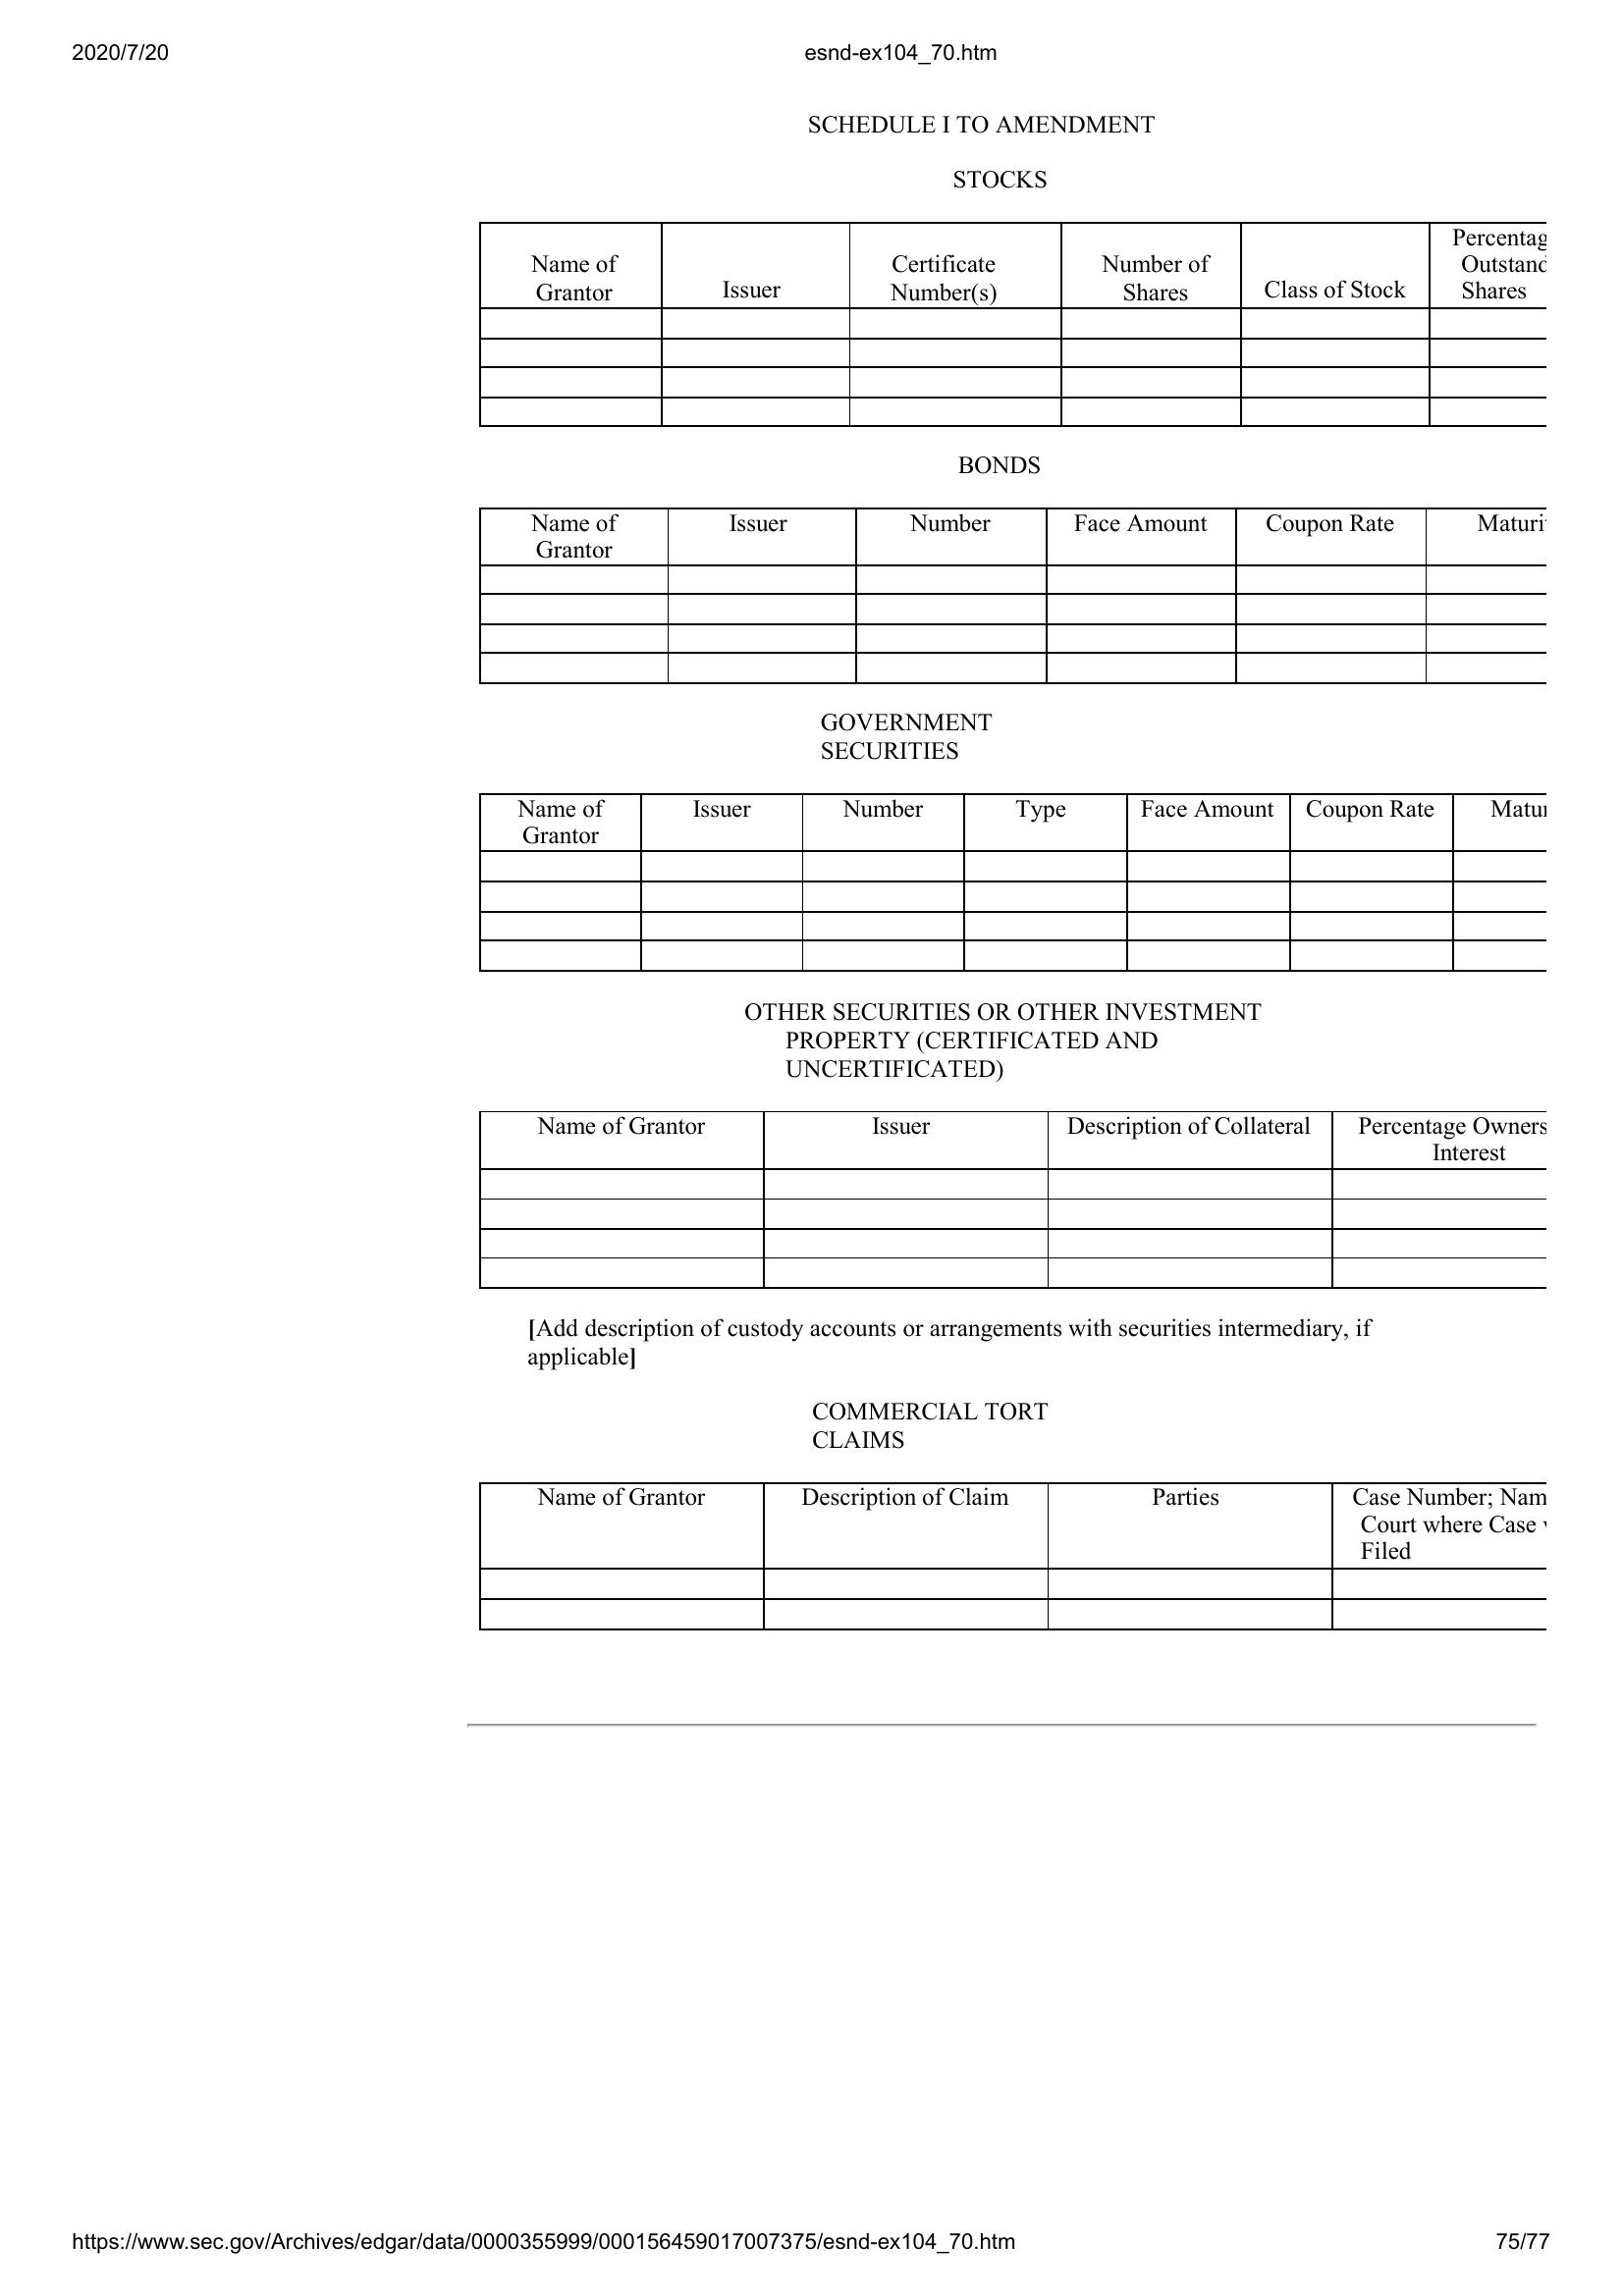table: (472, 214, 1553, 434), (471, 1104, 1562, 1301), (476, 790, 1562, 981), (472, 504, 1558, 692), (472, 1478, 1553, 1647)
